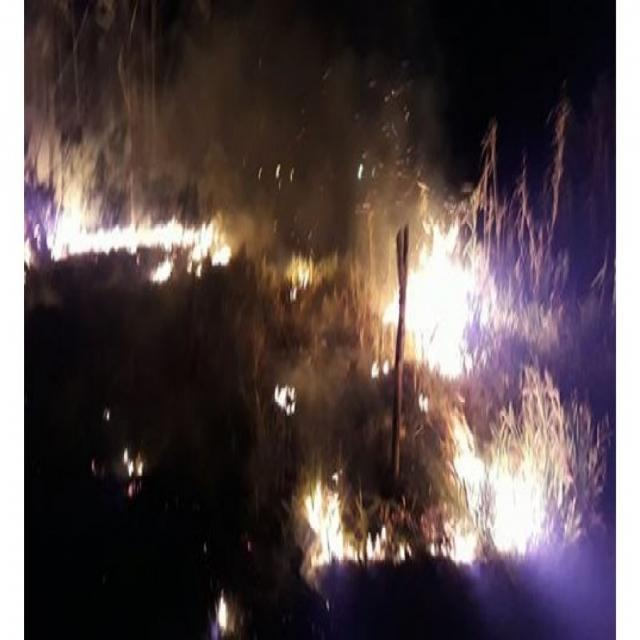Fire: (24, 179, 232, 279), (382, 214, 502, 378), (428, 409, 550, 562), (303, 468, 347, 566), (348, 522, 412, 562), (288, 250, 315, 300), (123, 446, 146, 499), (274, 379, 298, 414), (150, 256, 174, 286), (371, 360, 389, 383), (218, 596, 228, 630), (418, 394, 429, 412)
Smoke: (152, 21, 292, 180), (292, 55, 364, 242), (364, 65, 454, 212), (235, 202, 275, 260)
